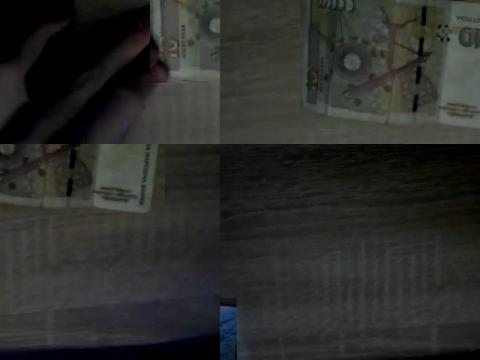10leva: (300, 0, 480, 128)
